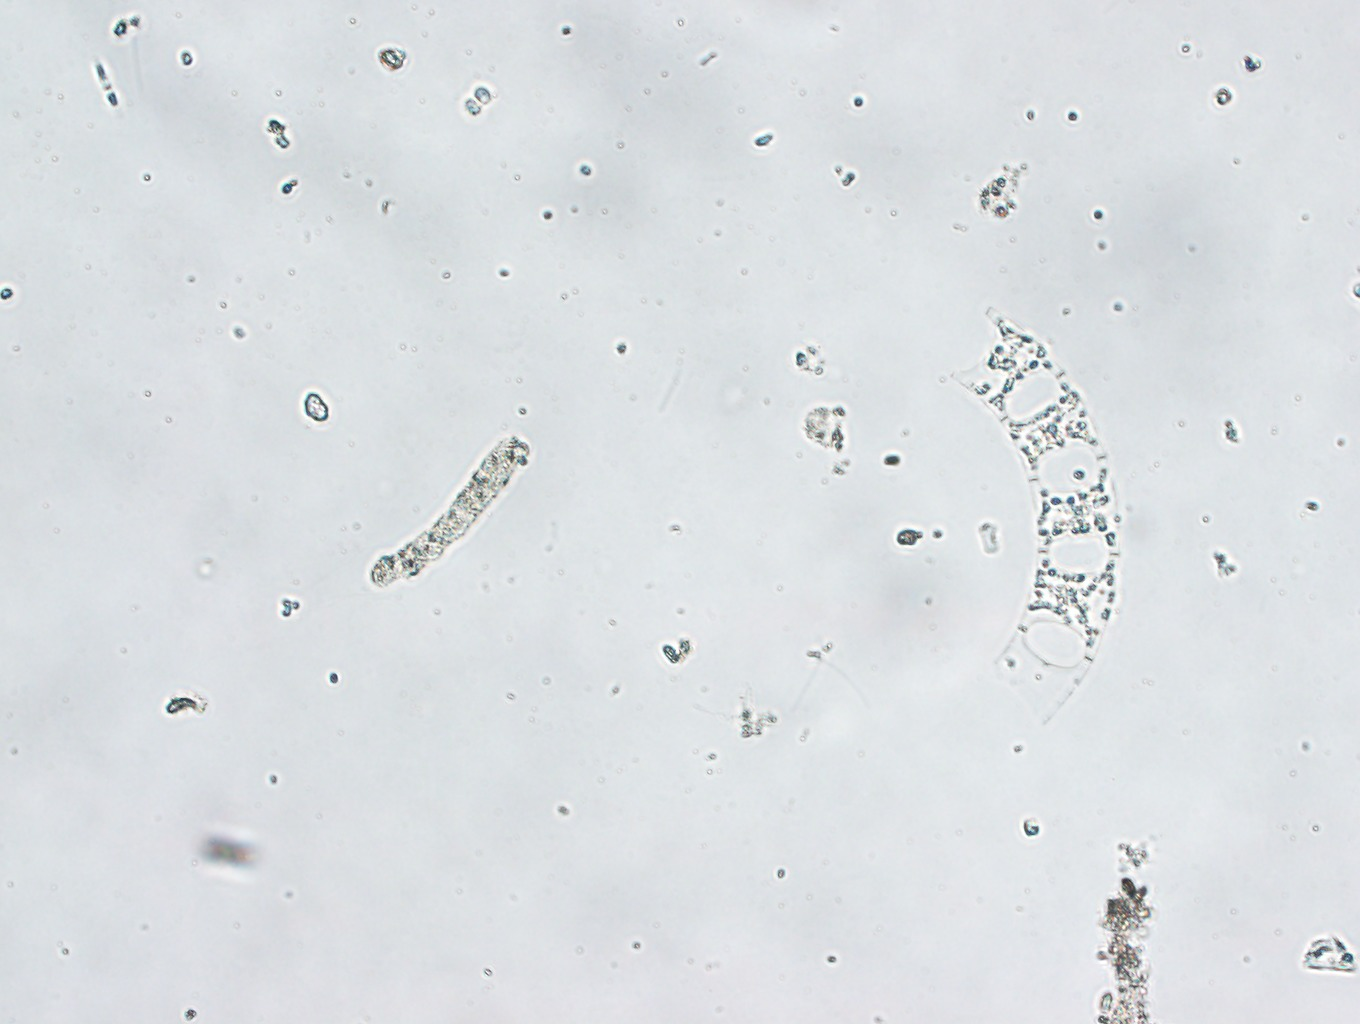eucampia: (922, 312, 1131, 739)
